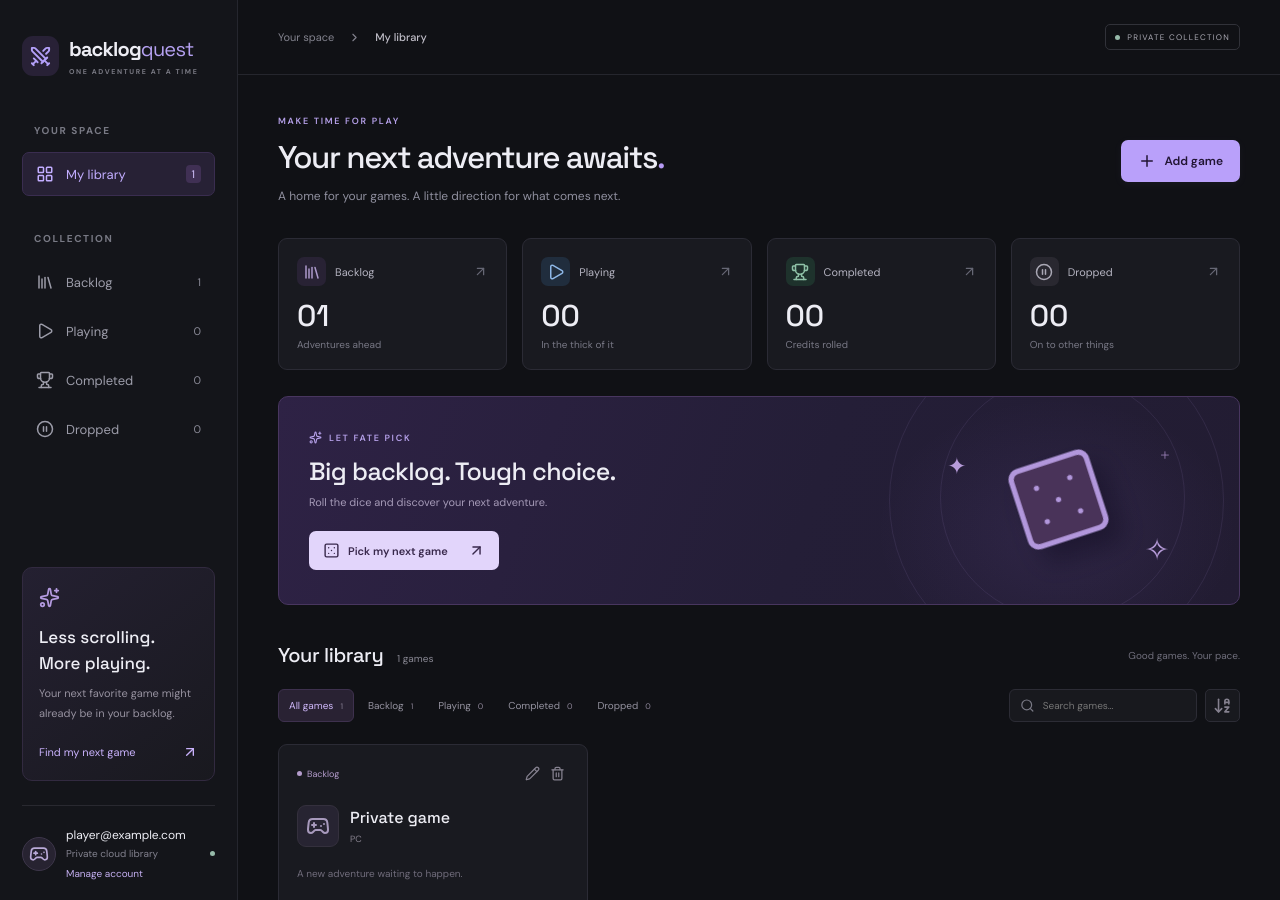
Test case: reliable feedback › prevents password changes during sign-out and preserves account inputs after failure
The image size is (1280, 900).
expect the button "Private game" is shown: met, box [350,807,450,828]
Click the button "Manage account" at (104, 870), box [66,860,143,880]
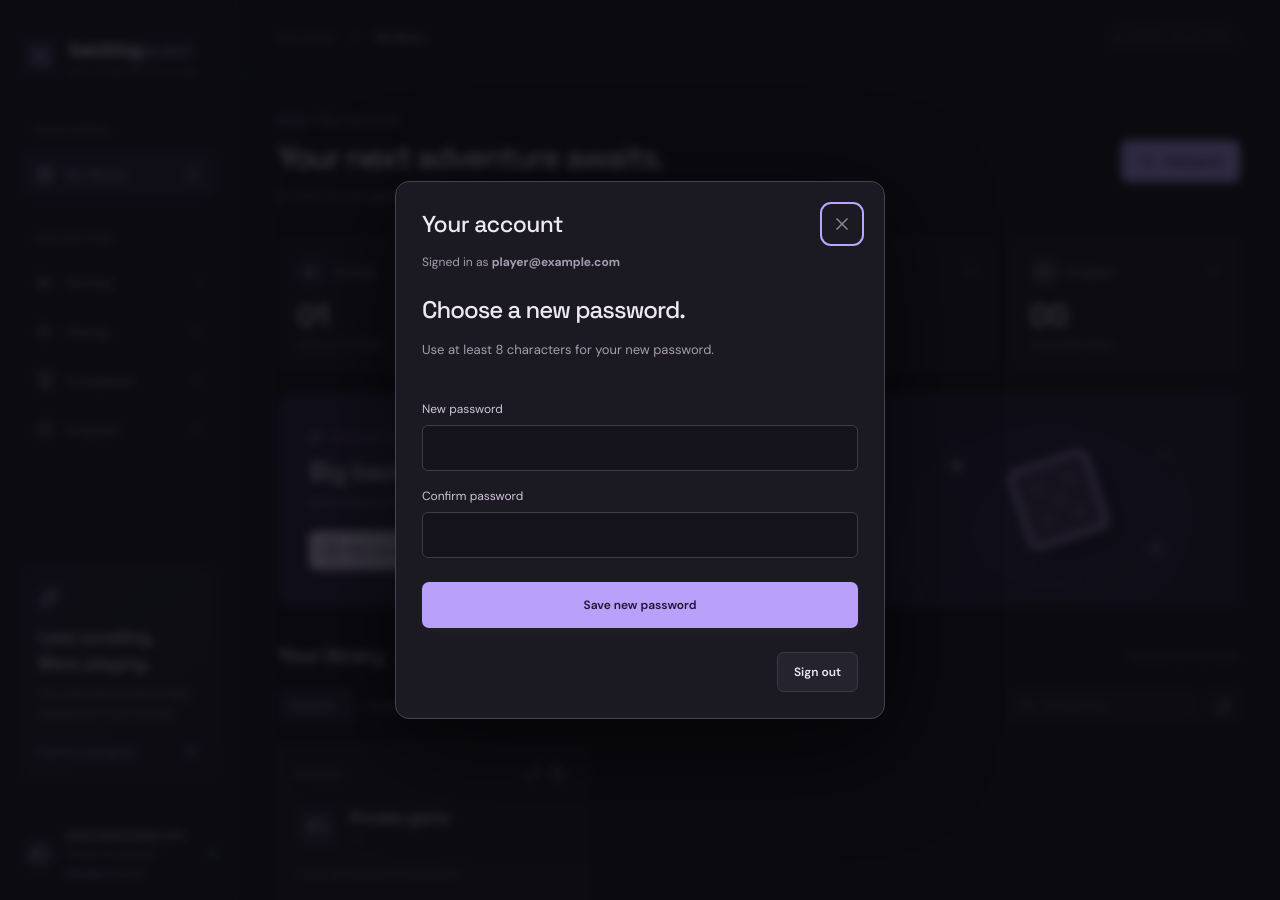
Type "a new password" into the password field labelled "New password" at (640, 448), box [422,425,858,471]
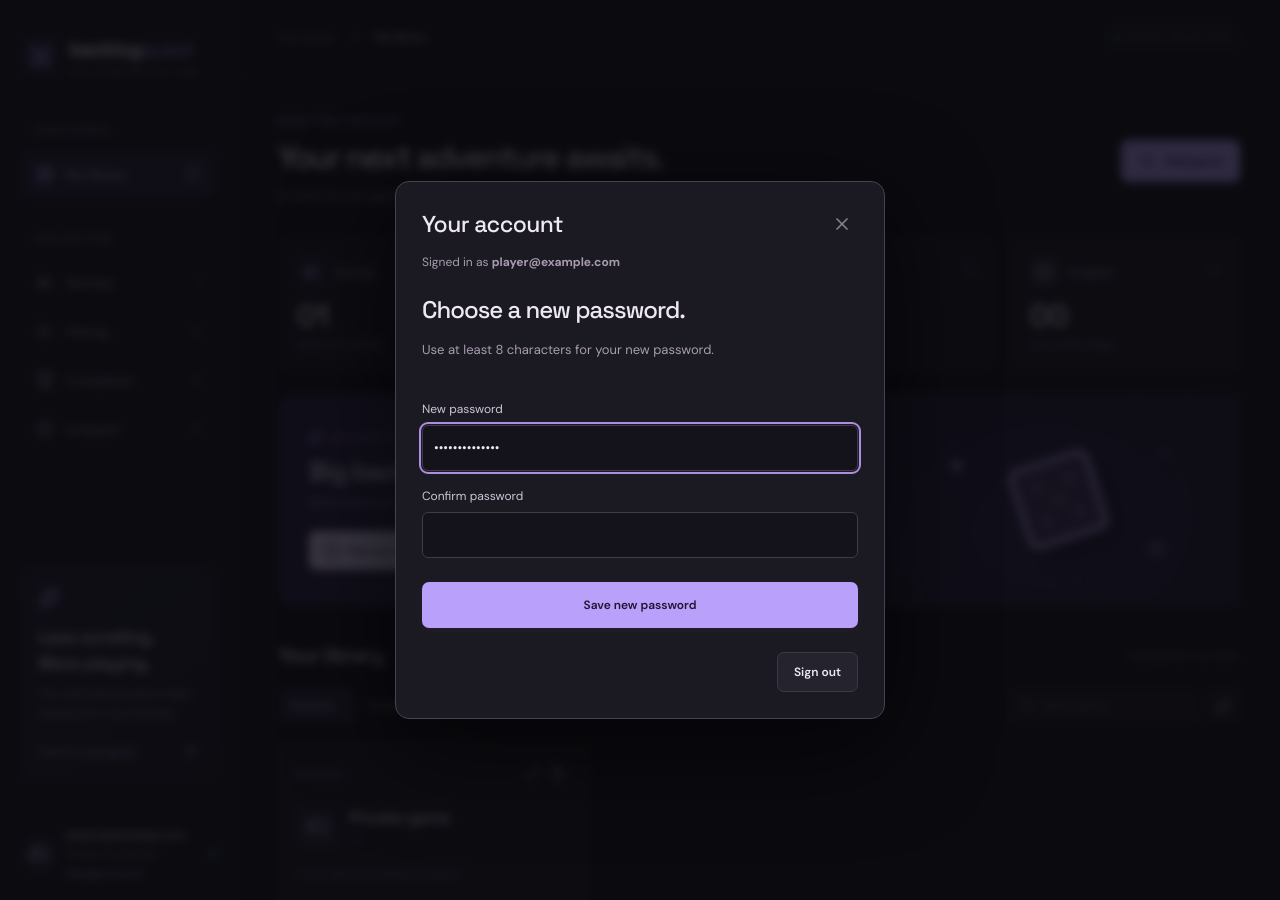
Type "a new password" into the password field labelled "Confirm password" at (640, 535), box [422,512,858,558]
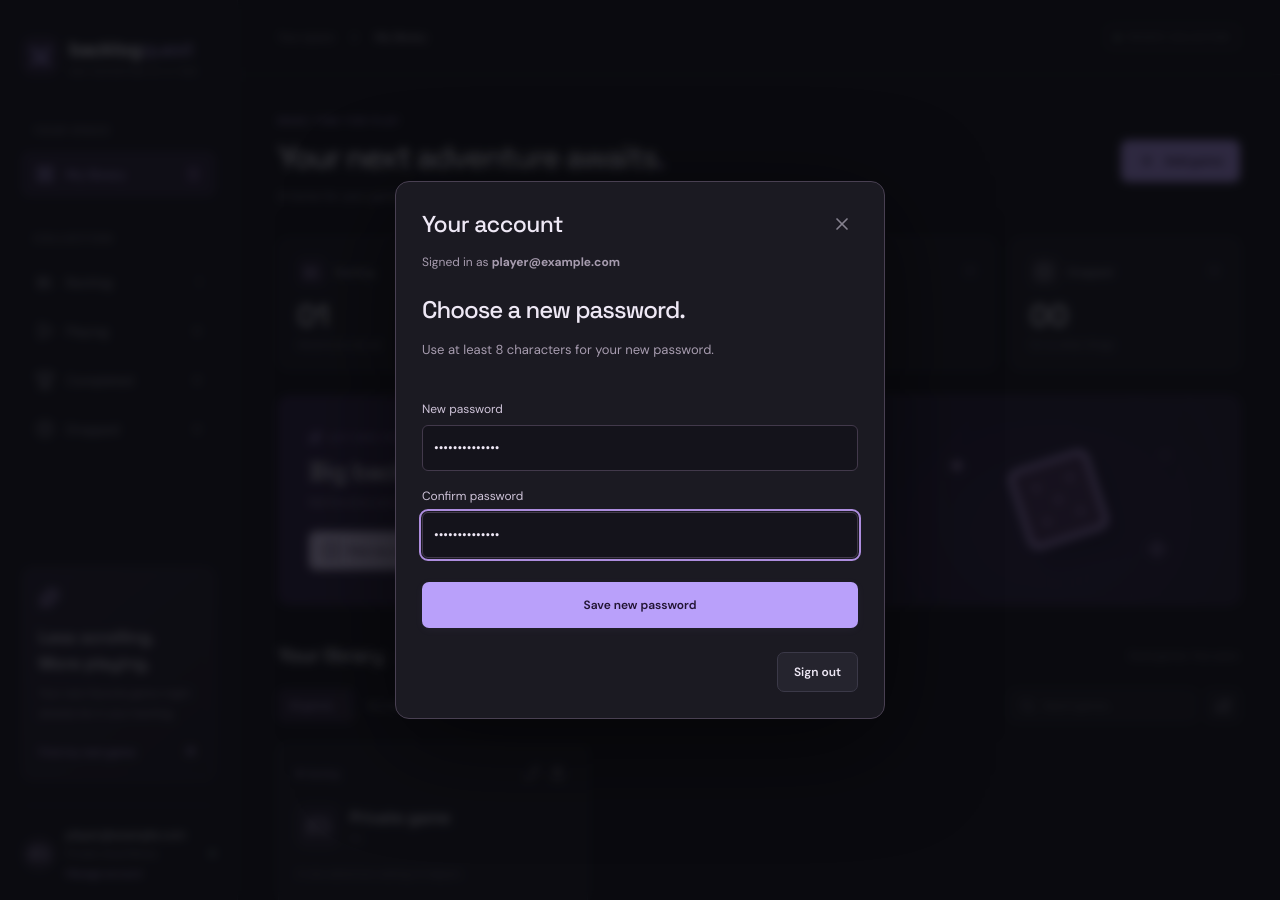
Click the button "Sign out" at (817, 672), box [777,652,858,692]
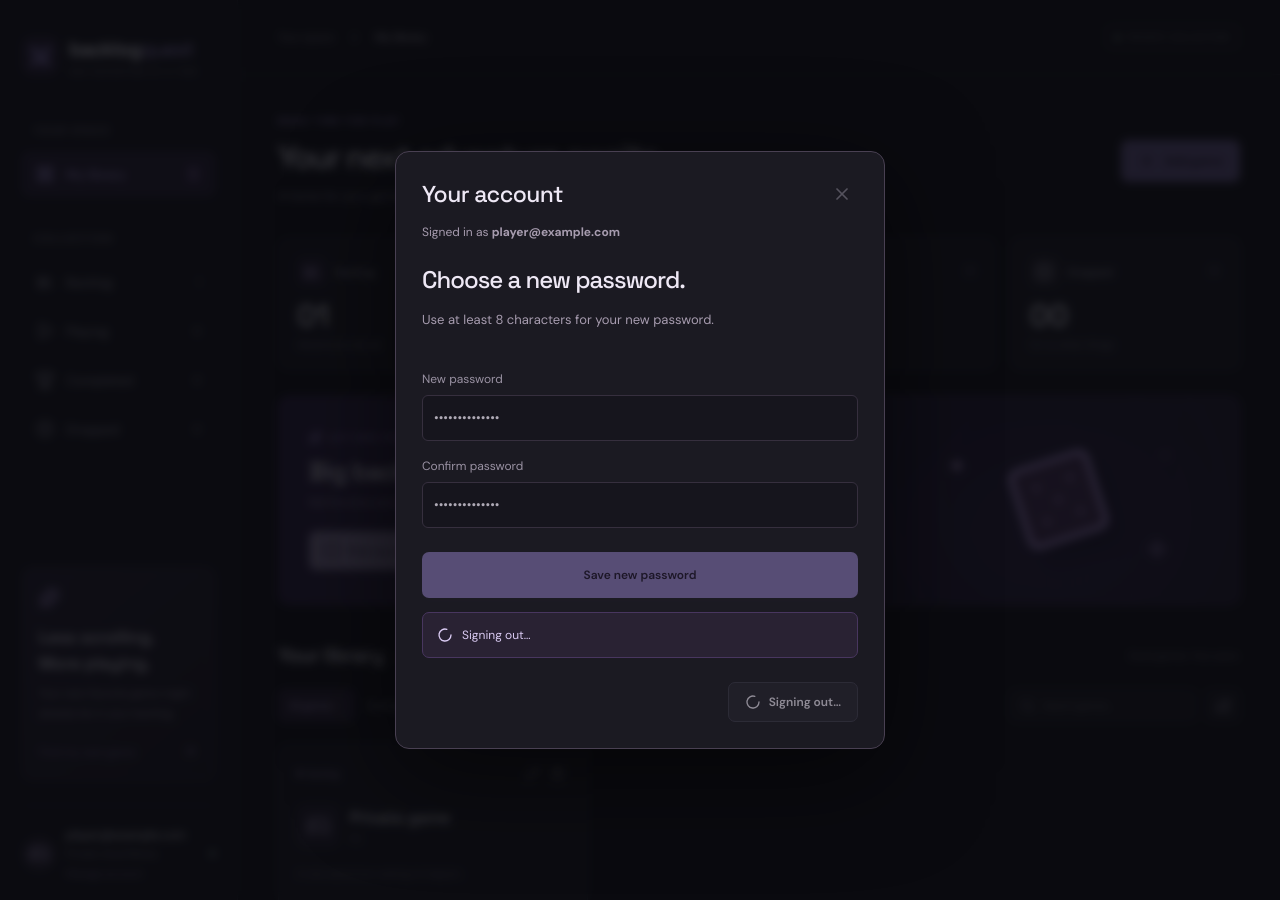
expect the element labelled "New password" is disabled: met
Submit the form labelled "New password", box [422,354,858,598]
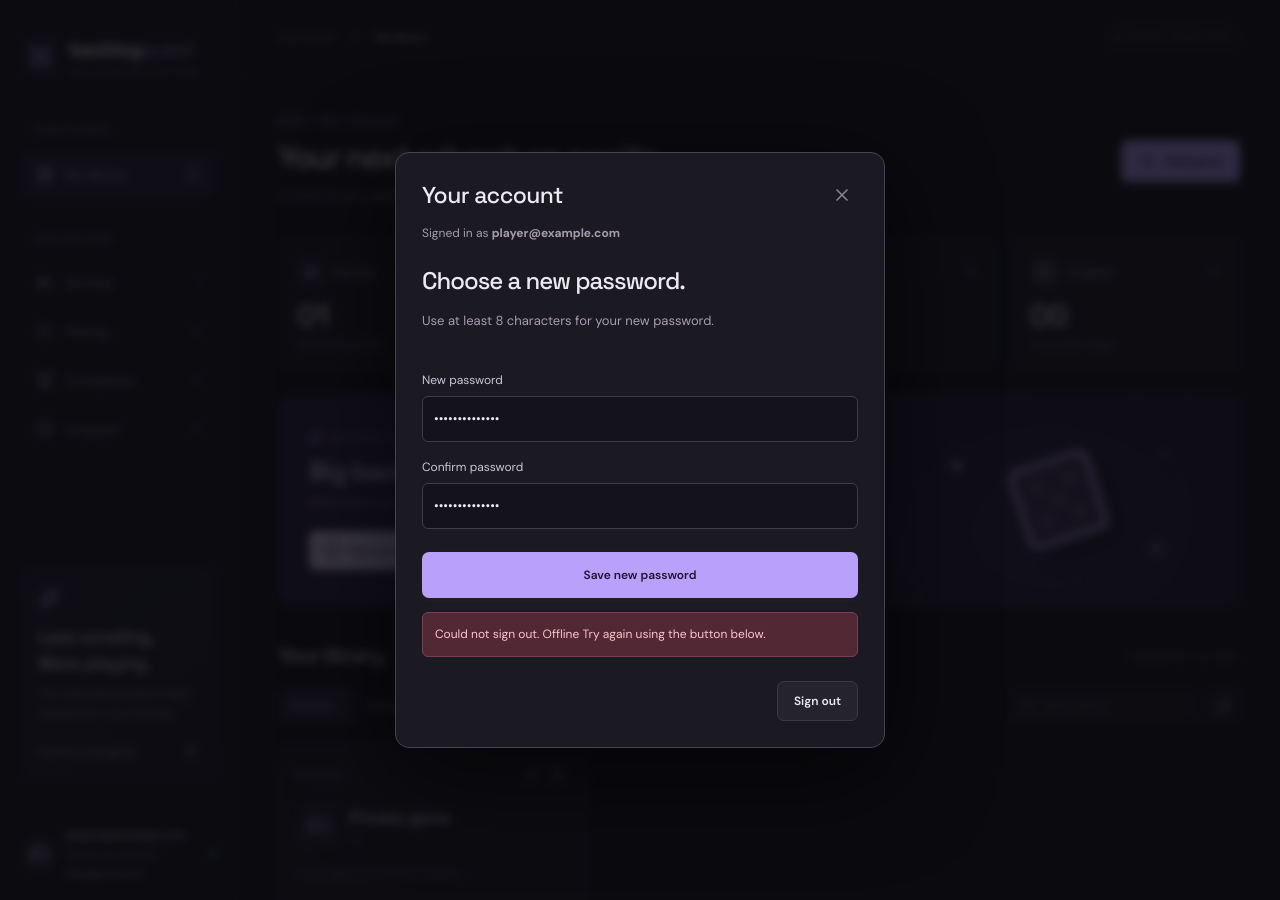
expect the message shows "Could not sign out.": met, box [435,626,766,642]
expect the element labelled "New password" is enabled: met, box [422,354,858,598]
